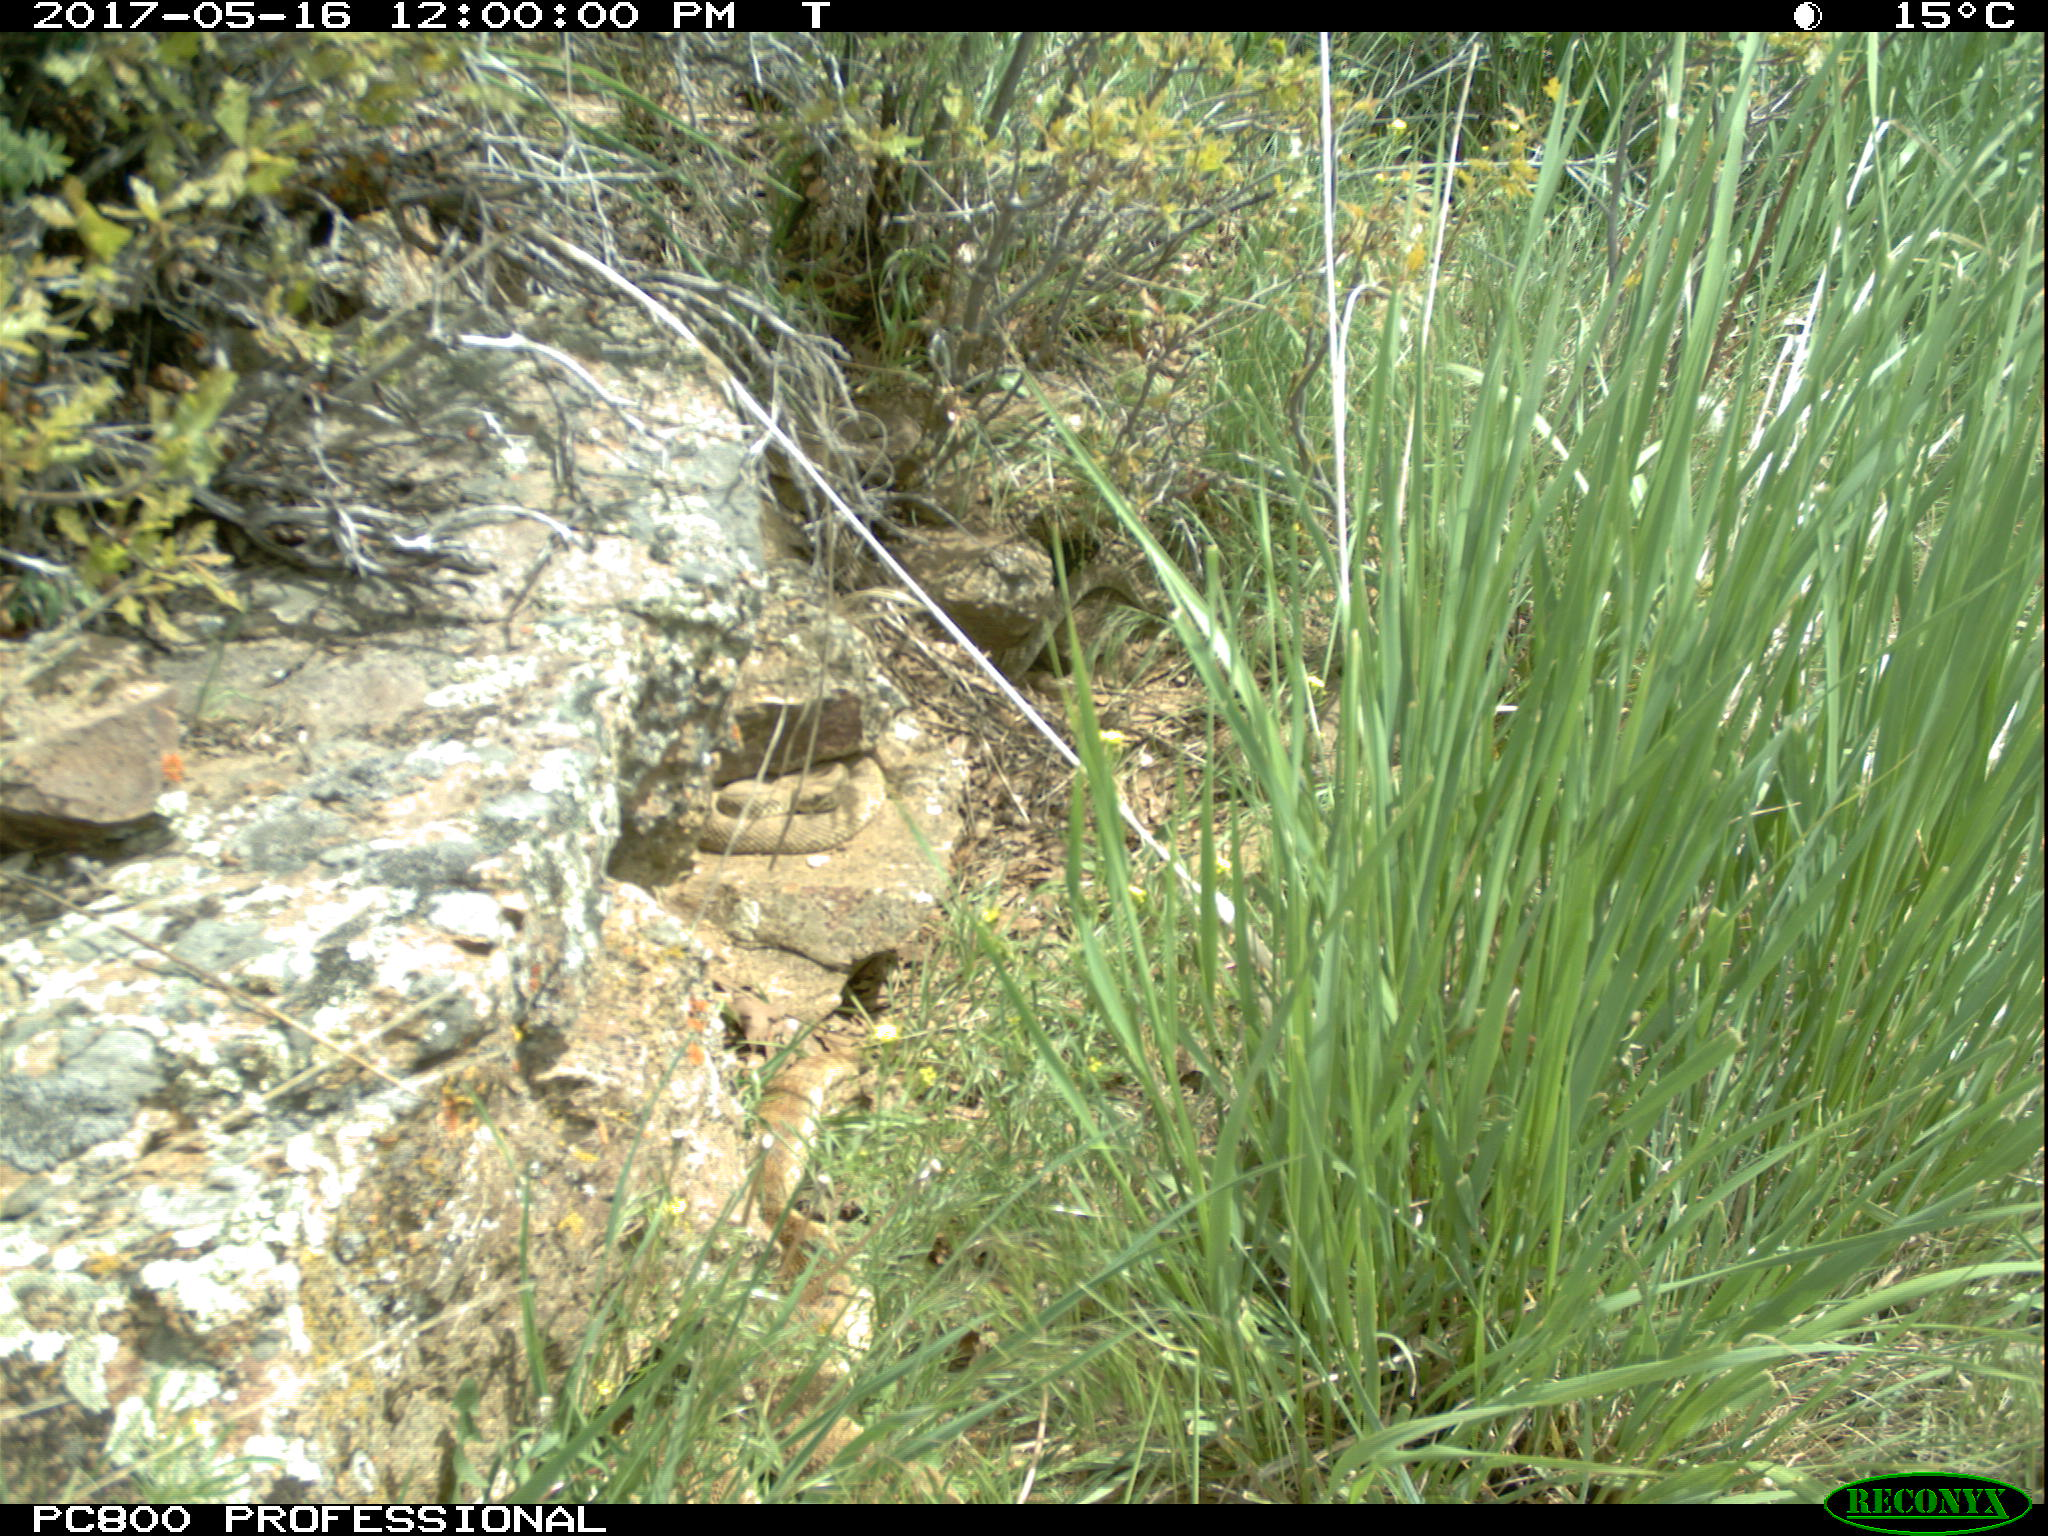snake: (753, 1050, 863, 1375), (1001, 557, 1156, 686), (697, 757, 887, 854)
